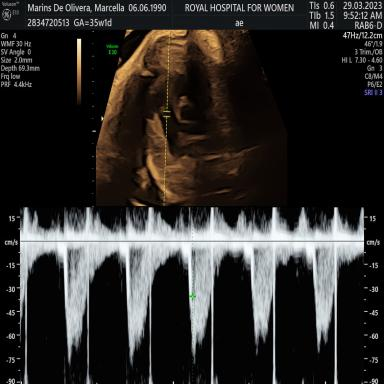Ultrasound-Waves: (27, 206, 363, 384)
